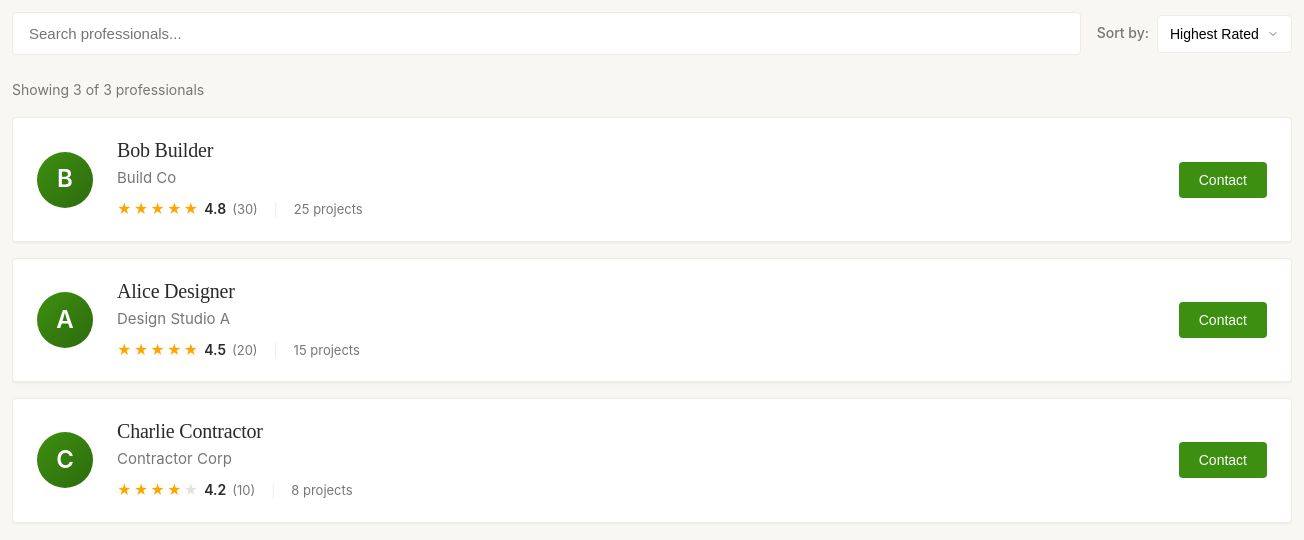
Test case: ProfessionalsList Component › shows "No professionals found" when search has no results
Type "NonexistentName" into the field with placeholder "Search professionals..." at (546,34), box [12,12,1081,55]
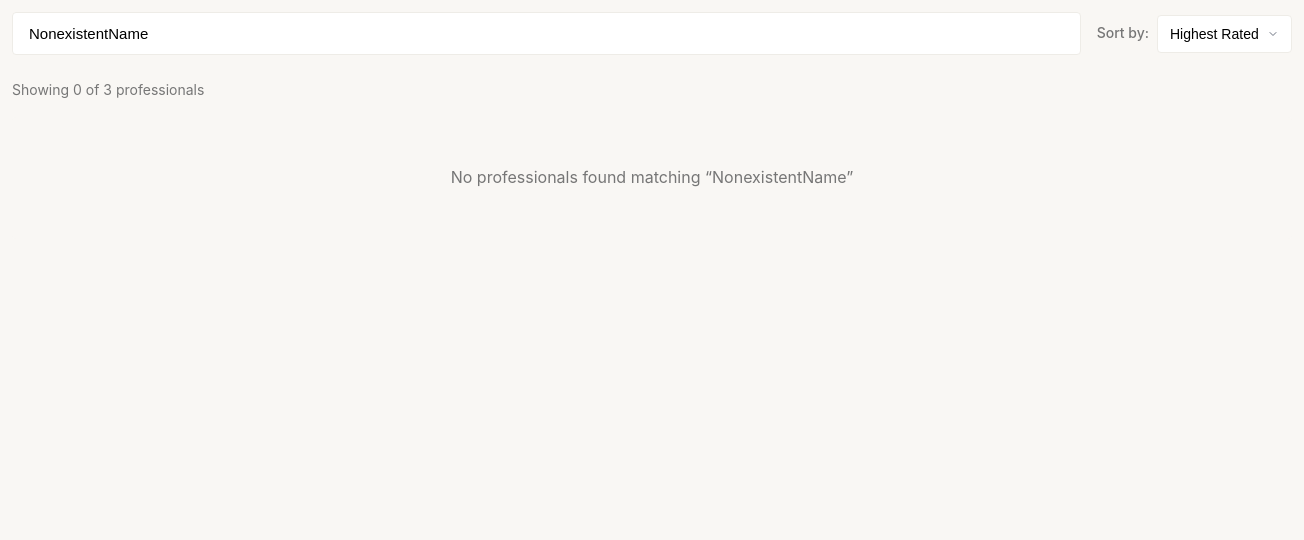
Result: the text "No professionals found matching “NonexistentName”" is shown at [451,167,853,187]
